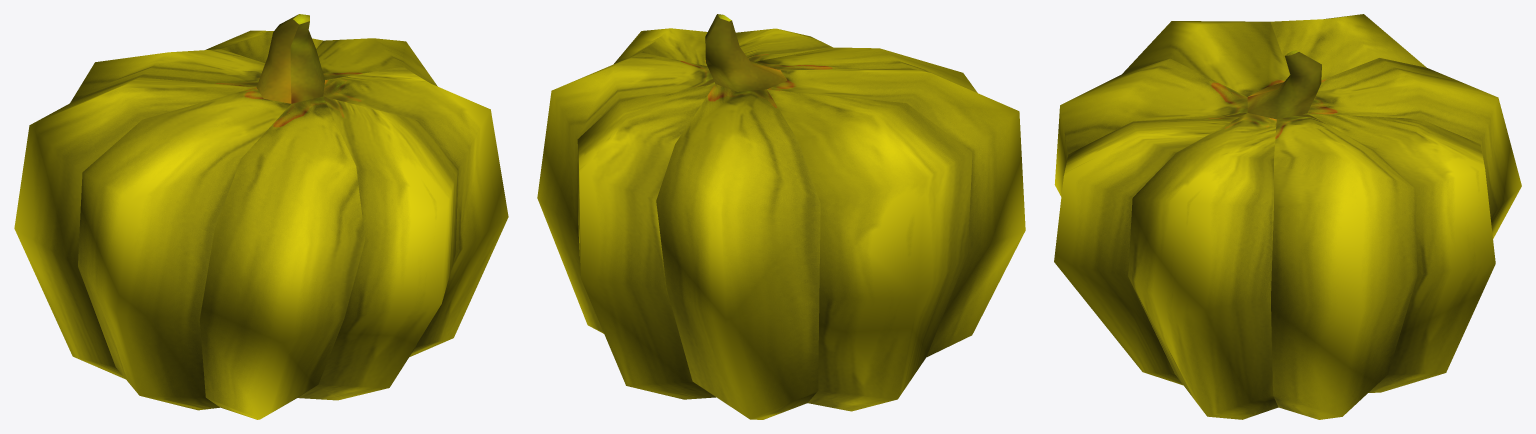
The model's file is ruraltown_pumpking_small_01.fbx.
3 renders of one model, left to right at view 1: azimuth 30°, elevation 25°; view 2: azimuth 150°, elevation 25°; view 3: azimuth 270°, elevation 25°, orthographic.
Visible parts, largest first — view 1: ruraltown_pumpking_small_01; view 2: ruraltown_pumpking_small_01; view 3: ruraltown_pumpking_small_01.
Boxes of the visible parts, x1,y1,x2,y2 form: ruraltown_pumpking_small_01: (14, 14, 508, 419); ruraltown_pumpking_small_01: (537, 14, 1025, 419); ruraltown_pumpking_small_01: (1054, 14, 1521, 419).
Size of the model in its own units: 0.354 by 0.3005 by 0.3688.
